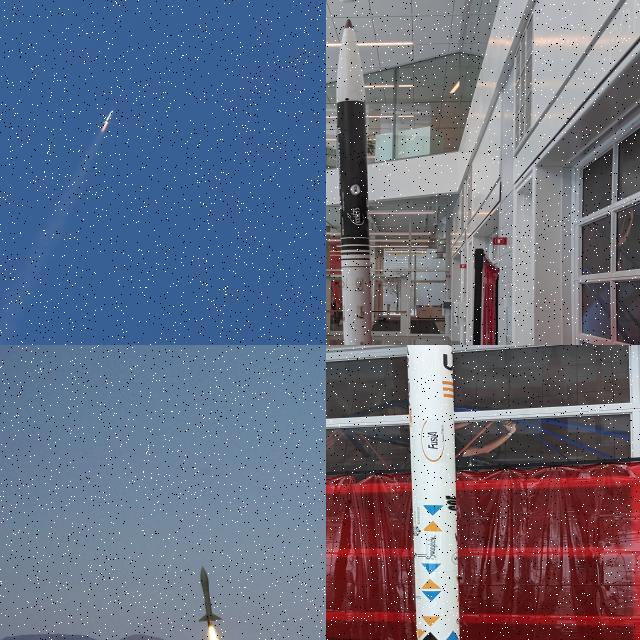Rocket: (407, 345, 460, 640), (336, 19, 373, 345), (198, 566, 222, 622), (102, 110, 114, 124)
